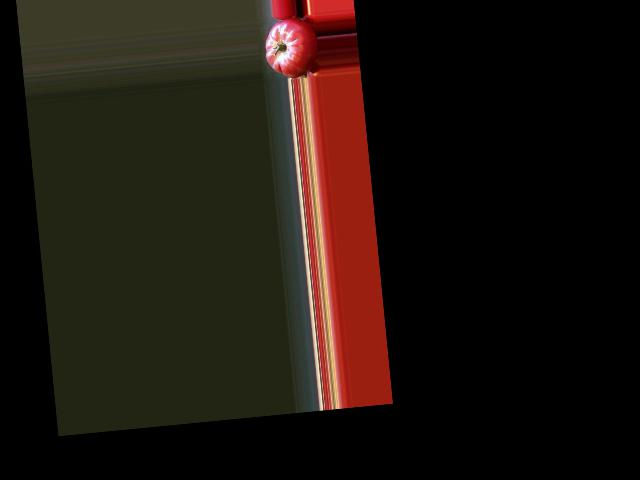tomato: (262, 15, 321, 80)
